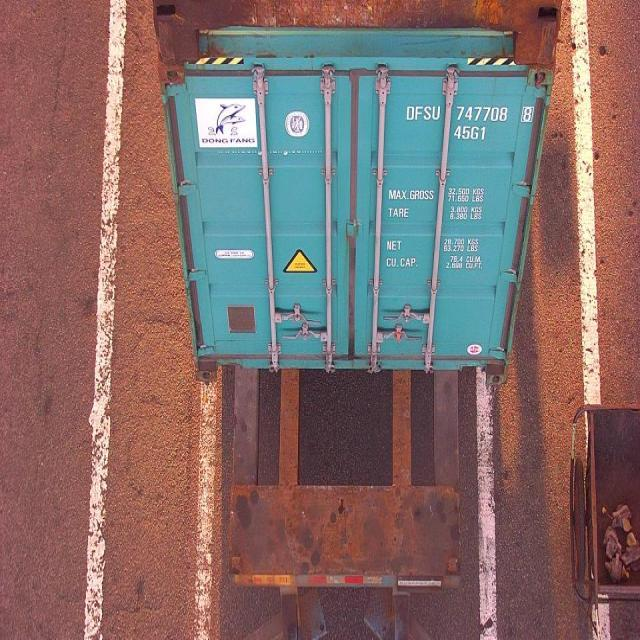ISO: (454, 125, 486, 142)
container_number: (406, 105, 526, 124)
